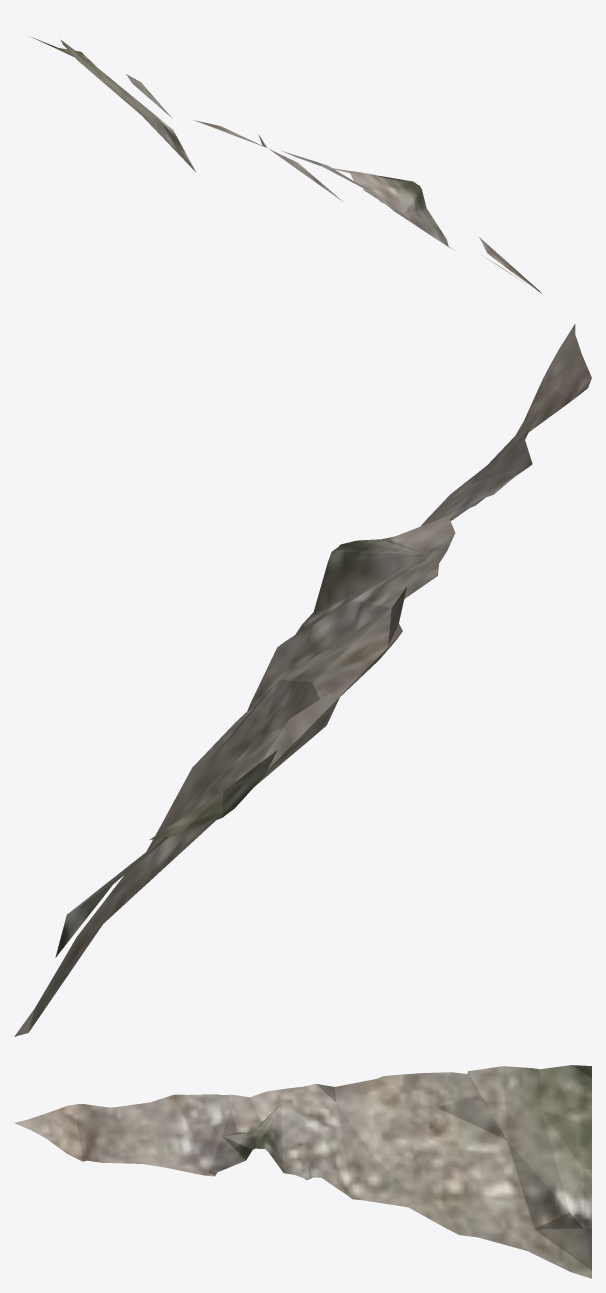
3 views of the same model, one above another, from view 1: azimuth 30°, elevation 25°; view 2: azimuth 150°, elevation 25°; view 3: azimuth 270°, elevation 25° (orthographic). The views are drawn at different scales.
Bounding box in the file's own units: 0.7341 × 0.9223 × 3.1.
1 material, 1 textured.
